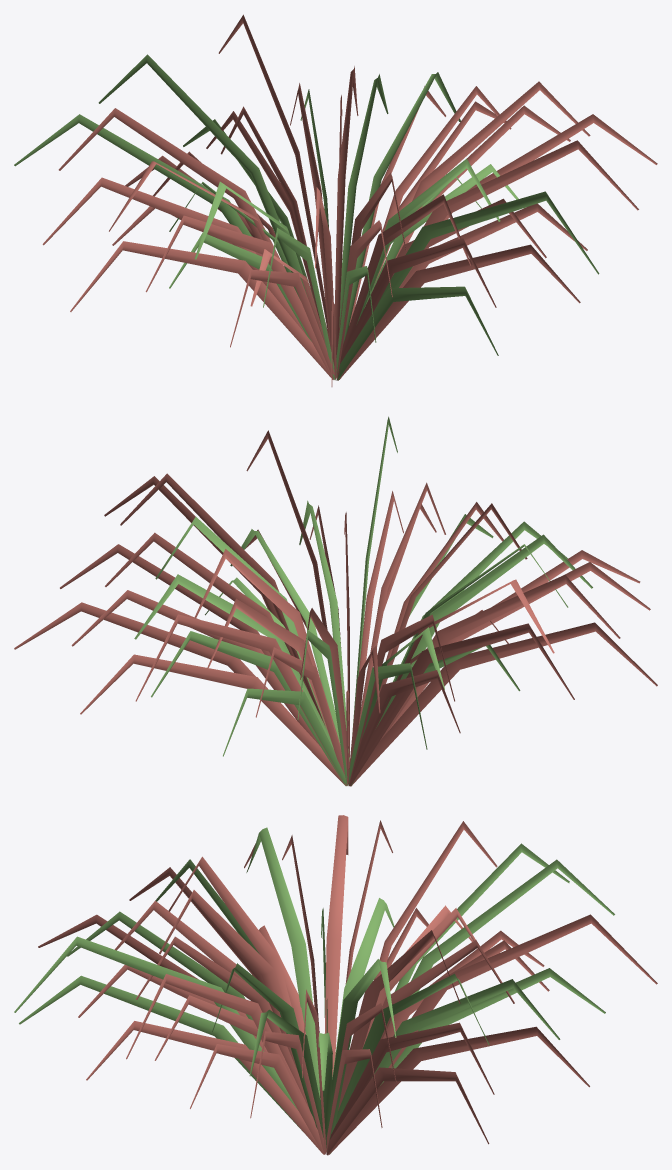
File: grass_red_fescue.glb
The picture shows the model from 3 angles, top to bottom: view 1: azimuth 30°, elevation 25°; view 2: azimuth 150°, elevation 25°; view 3: azimuth 270°, elevation 25°; orthographic projection.
Visible parts, largest first — view 1: Flora_Red_Fescue; view 2: Flora_Red_Fescue; view 3: Flora_Red_Fescue.
Boxes of the visible parts, box(x1,y1,x2,y2) form: Flora_Red_Fescue: box(14, 14, 657, 386); Flora_Red_Fescue: box(14, 416, 657, 786); Flora_Red_Fescue: box(14, 815, 657, 1155).
Bounding box in the file's own units: 0.9845 × 0.4265 × 0.9602.
